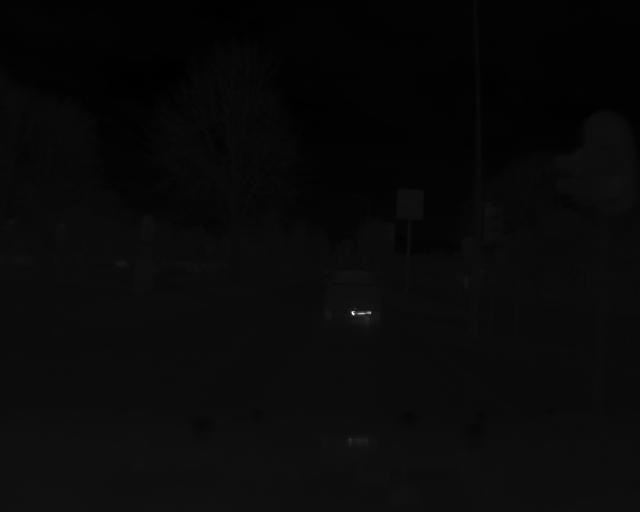car: (318, 266, 383, 321)
